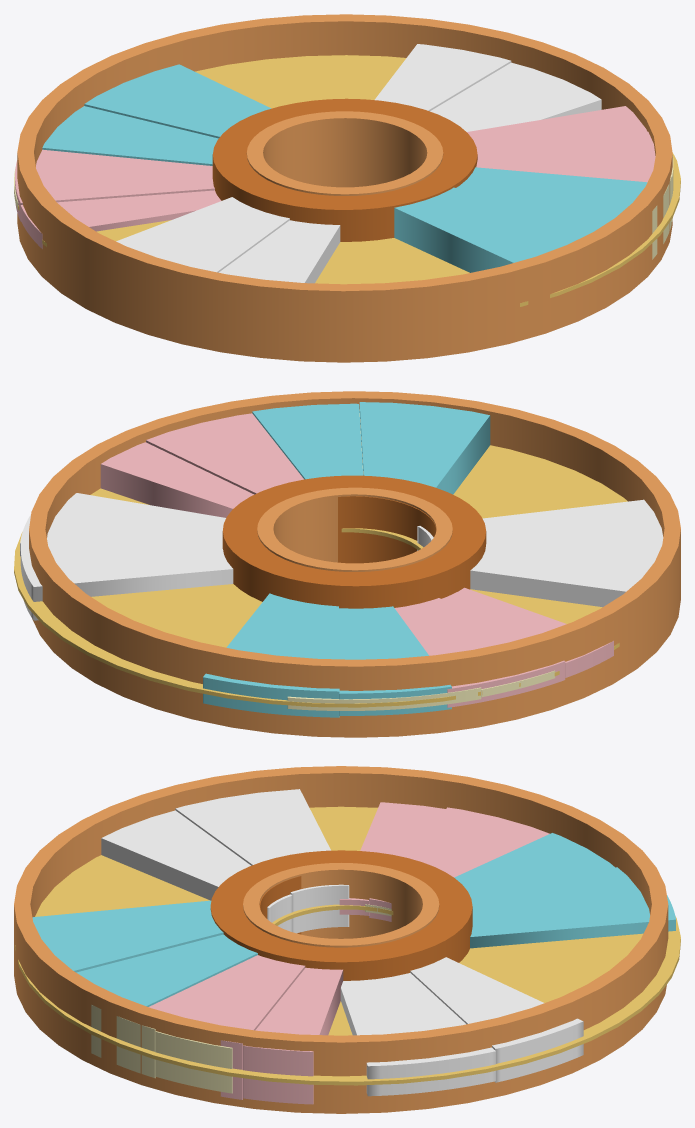
File: emoji_u1f4c0.glb
3 views of the same model, one above another, from view 1: azimuth 30°, elevation 25°; view 2: azimuth 150°, elevation 25°; view 3: azimuth 270°, elevation 25° (orthographic).
Parts seen in each view (by area): view 1: emoji_u1f4c0; view 2: emoji_u1f4c0; view 3: emoji_u1f4c0.
Part boxes in pixels (left/top/right/bottom): emoji_u1f4c0: left=14, top=14, right=680, bottom=362; emoji_u1f4c0: left=14, top=391, right=680, bottom=737; emoji_u1f4c0: left=14, top=766, right=680, bottom=1113.
Bounding box in the file's own units: 0.0322 × 0.0038 × 0.0322.
